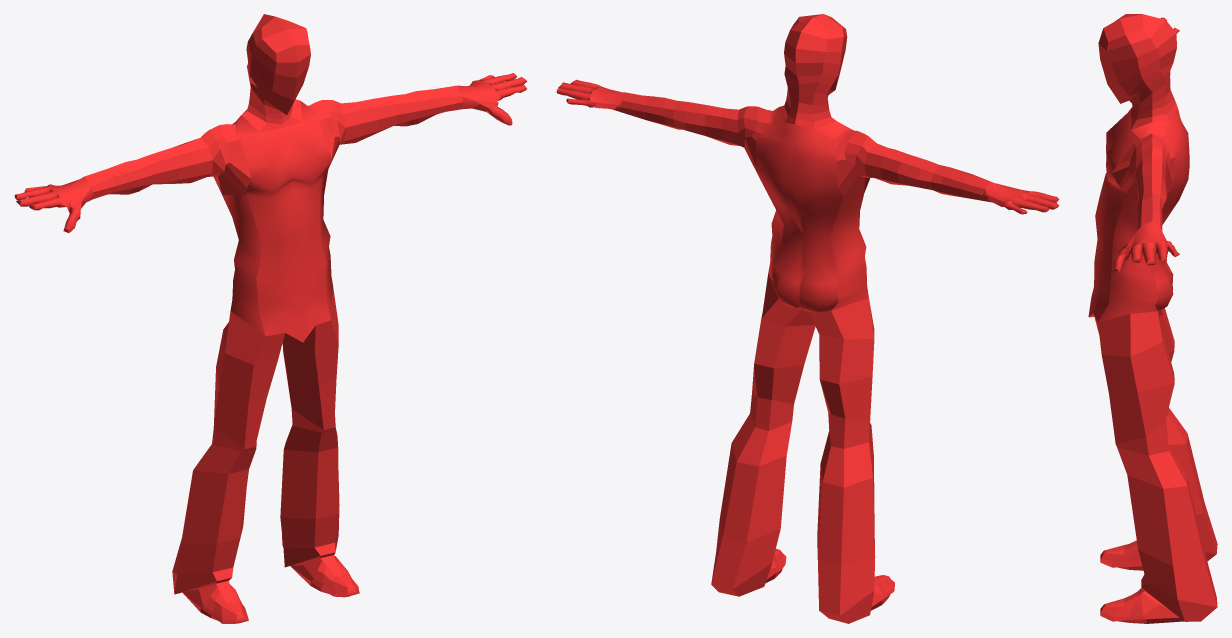
Rendered from humain2.FBX.
3 renders of one model, left to right at view 1: azimuth 30°, elevation 25°; view 2: azimuth 150°, elevation 25°; view 3: azimuth 270°, elevation 25°, orthographic.
Visible parts, largest first — view 1: Box001; view 2: Box001; view 3: Box001.
Boxes of the visible parts, x1,y1,x2,y2 form: Box001: (14, 14, 527, 623); Box001: (556, 14, 1059, 623); Box001: (1088, 14, 1217, 623).
Bounding box in the file's own units: 161 × 176 × 35.74.
